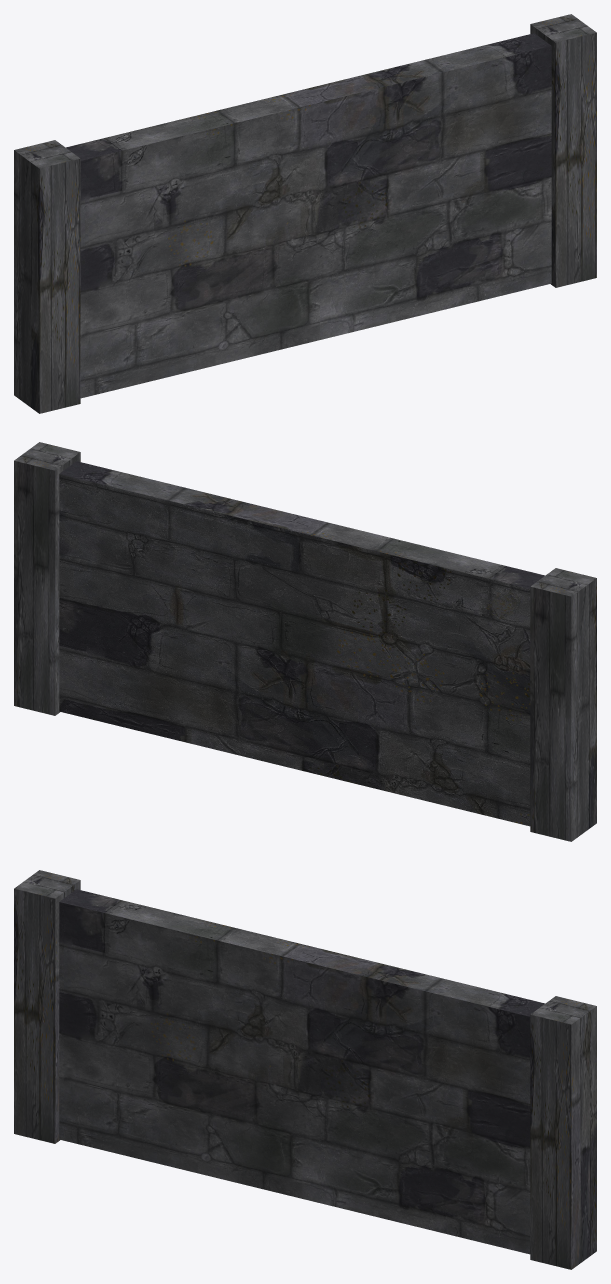
The model's file is ParedeLabirintoFogo(1).fbx.
The picture shows the model from 3 angles, top to bottom: view 1: azimuth 30°, elevation 25°; view 2: azimuth 150°, elevation 25°; view 3: azimuth 330°, elevation 25°; orthographic projection.
Visible parts, largest first — view 1: Cube; view 2: Cube; view 3: Cube.
Part boxes in pixels (x1,y1,x2,y2): Cube: (14,14,596,413); Cube: (14,442,596,841); Cube: (14,870,596,1269).
Size of the model in its own units: 603 by 253 by 47.75.
Materials: 1 (1 with a texture image).
